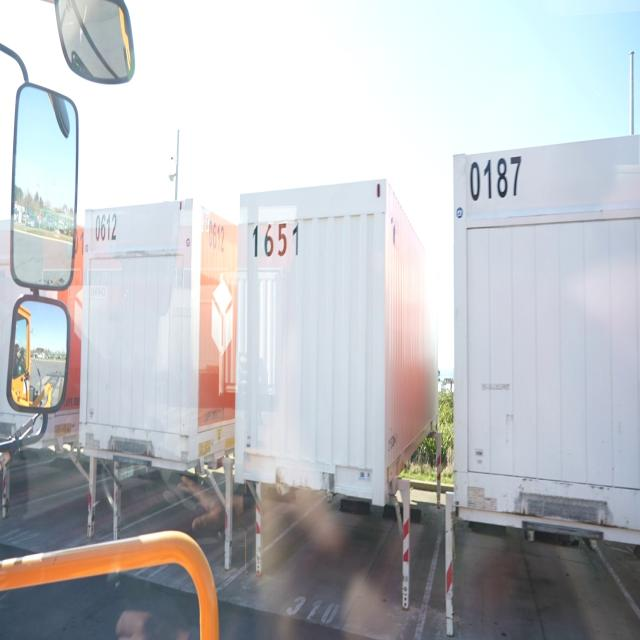Code: (465, 152, 523, 202), (250, 212, 302, 260), (93, 209, 120, 244), (207, 216, 227, 256)
